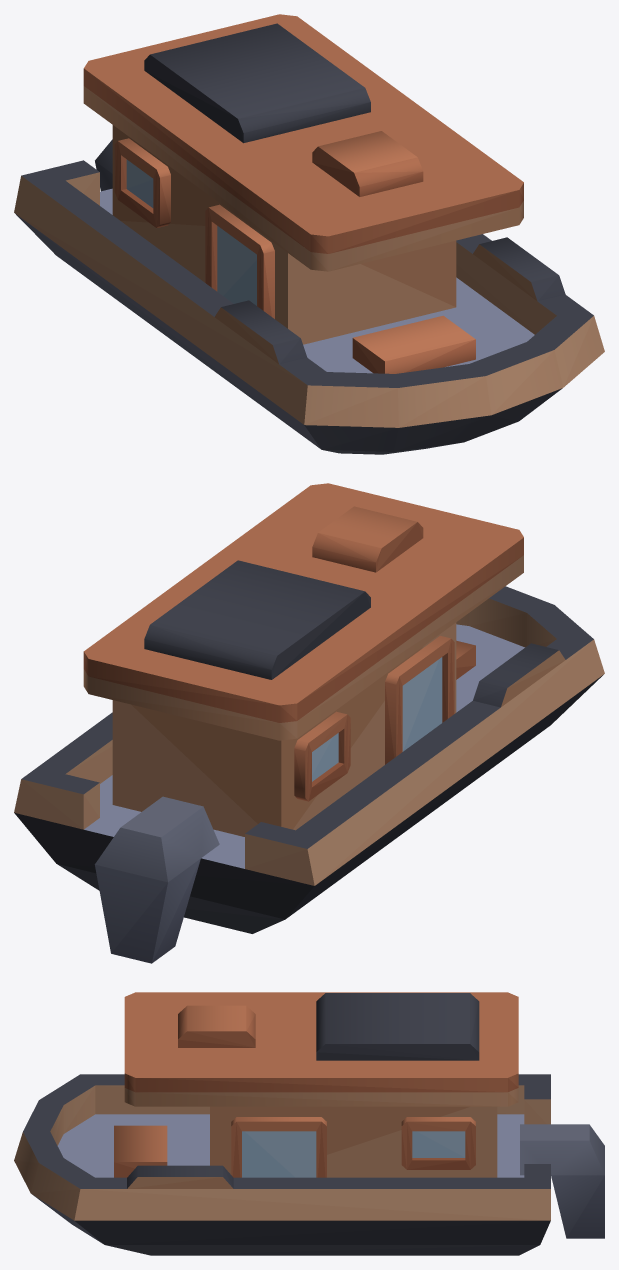
Rendered from watercraft_boat_house_b.glb.
3 views of the same model, one above another, from view 1: azimuth 30°, elevation 25°; view 2: azimuth 150°, elevation 25°; view 3: azimuth 270°, elevation 25° (orthographic). The views are drawn at different scales.
Visible parts, largest first — view 1: watercraft_boat_house_b; view 2: watercraft_boat_house_b; view 3: watercraft_boat_house_b.
Boxes of the visible parts, x1,y1,x2,y2 form: watercraft_boat_house_b: [14, 14, 604, 454]; watercraft_boat_house_b: [14, 483, 604, 963]; watercraft_boat_house_b: [14, 992, 604, 1255].
Bounding box in the file's own units: 2.68 × 2.2 × 5.55.
